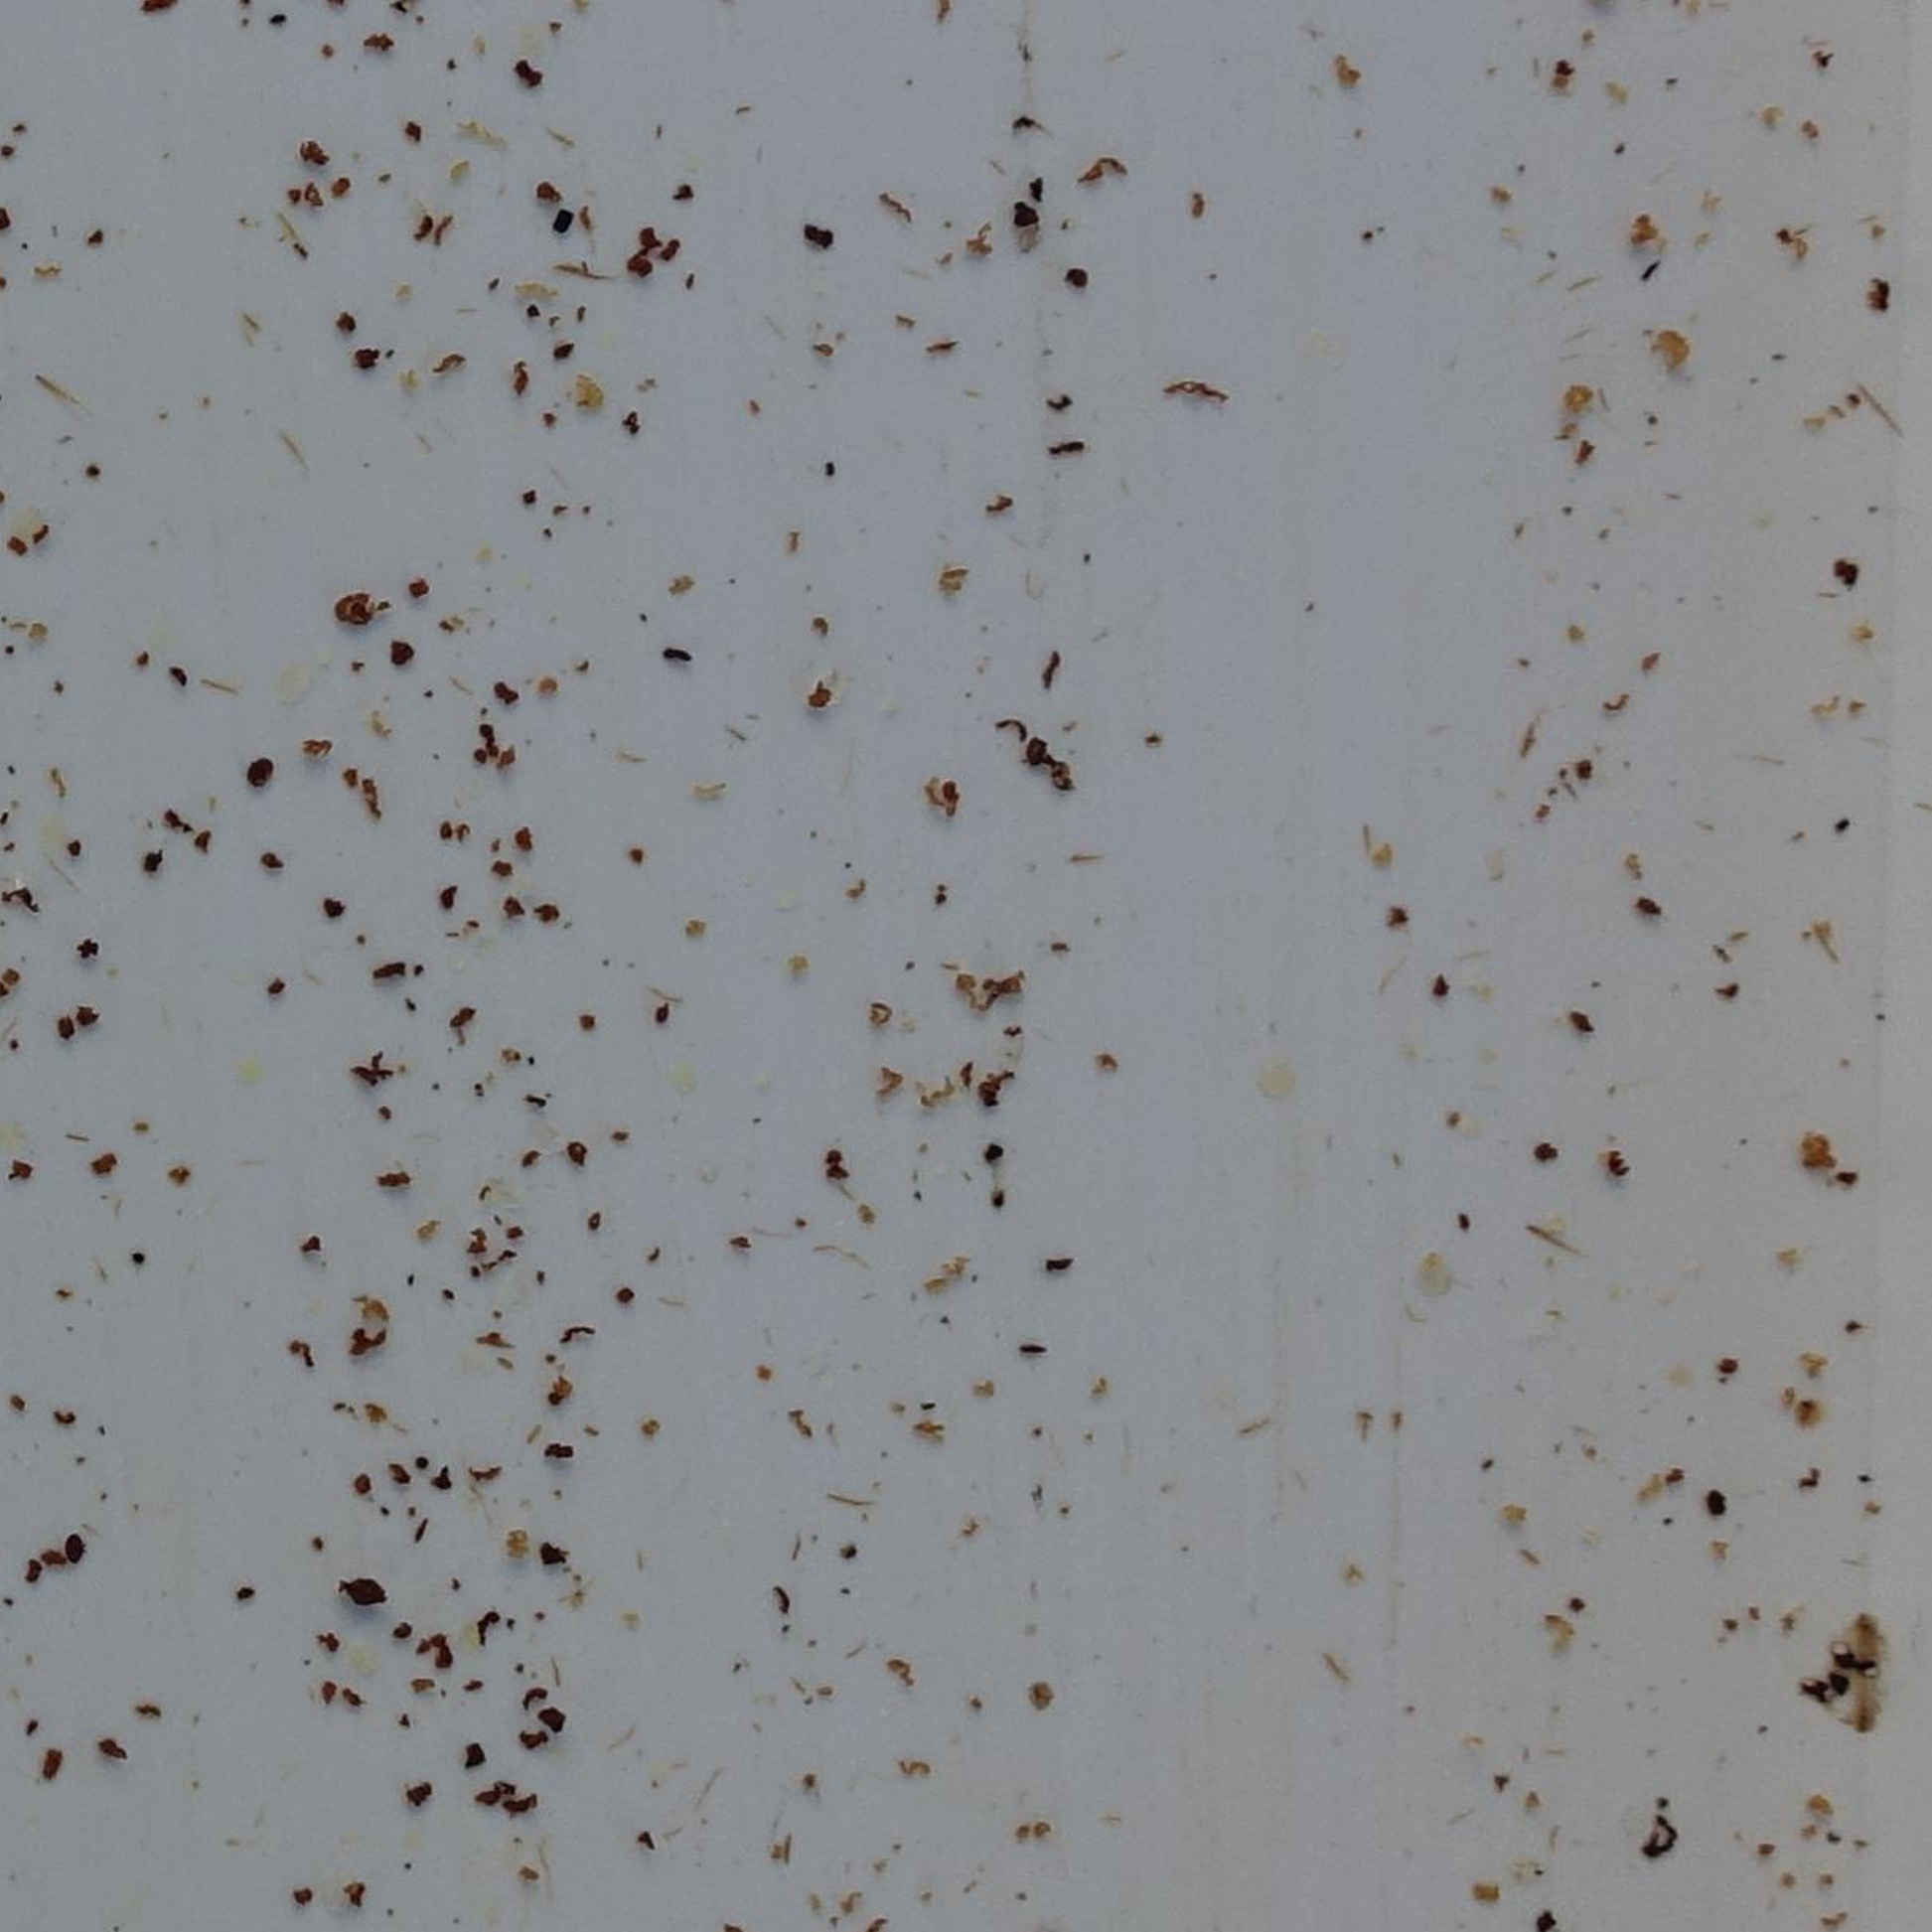Varroa: (248, 757, 271, 782), (64, 1537, 87, 1560)
